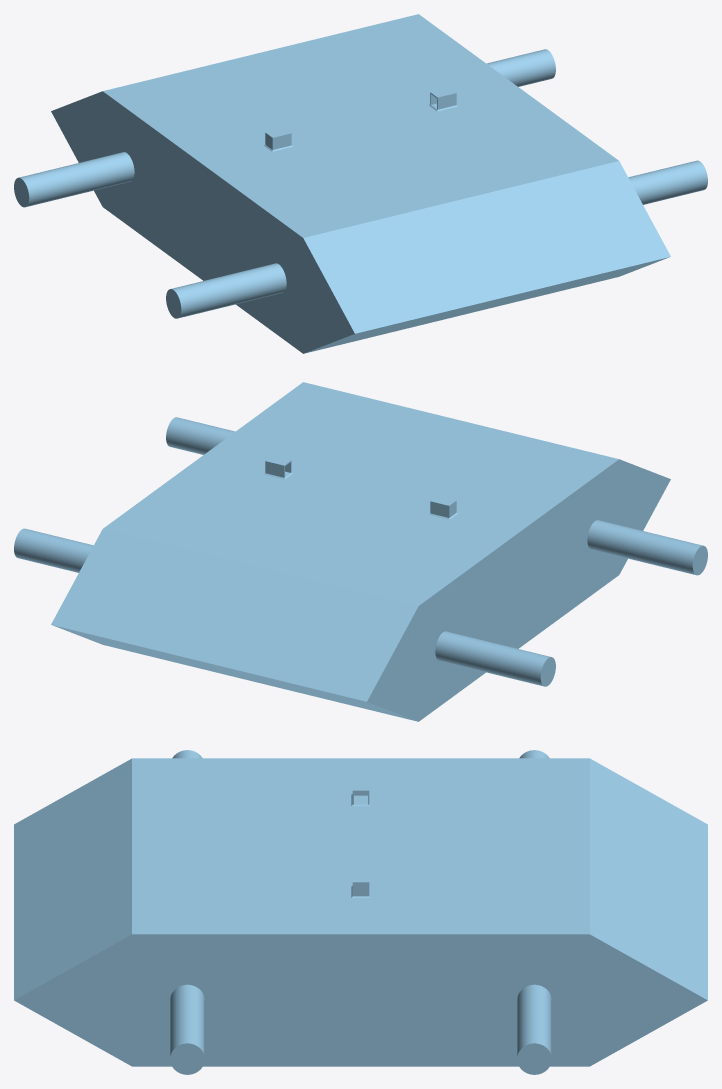
The model's file is Body.dae.
The picture shows the model from 3 angles, top to bottom: view 1: azimuth 30°, elevation 25°; view 2: azimuth 150°, elevation 25°; view 3: azimuth 270°, elevation 25°; orthographic projection. The views are drawn at different scales.
Parts seen in each view (by area): view 1: 5df9082817b94711b5722a1d; view 2: 5df9082817b94711b5722a1d; view 3: 5df9082817b94711b5722a1d.
Part boxes in pixels (<box>): 5df9082817b94711b5722a1d: <box>14,14,707,353</box>; 5df9082817b94711b5722a1d: <box>14,382,707,721</box>; 5df9082817b94711b5722a1d: <box>14,750,707,1074</box>.
Bounding box in the file's own units: 0.5 × 0.5 × 0.1171.
